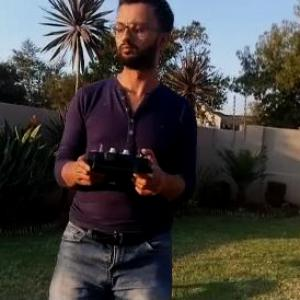follow: (47, 0, 198, 299)
